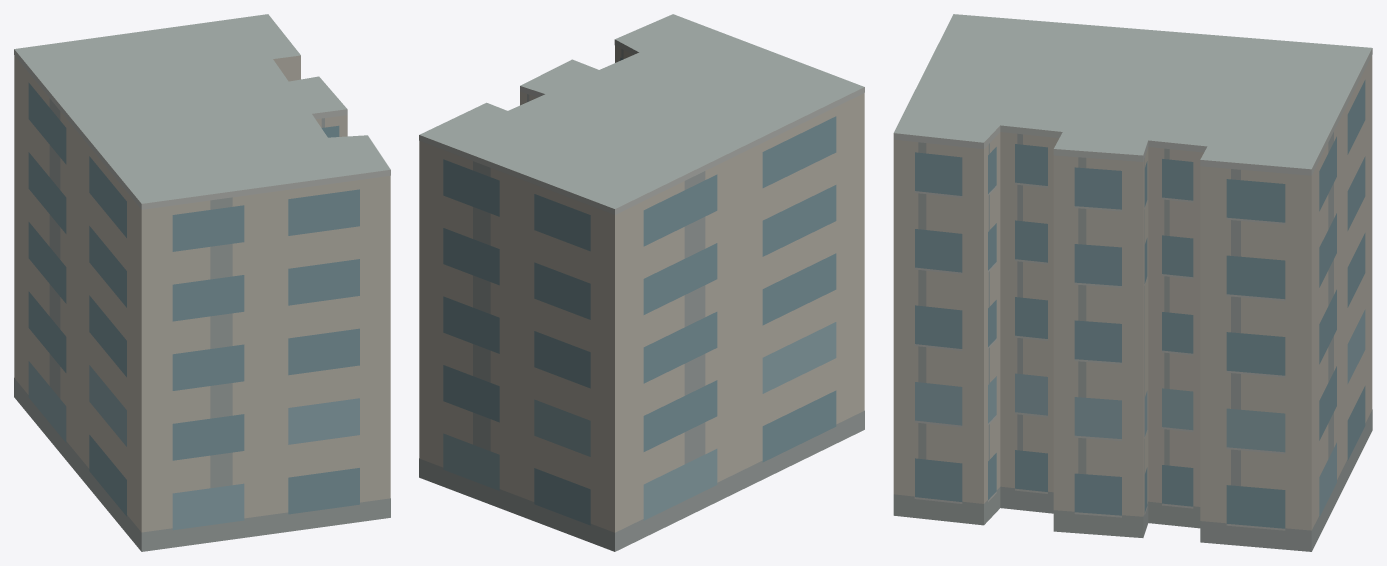
Rendered from survey-upis-32885331.glb.
3 renders of one model, left to right at view 1: azimuth 30°, elevation 25°; view 2: azimuth 150°, elevation 25°; view 3: azimuth 270°, elevation 25°, orthographic. The views are drawn at different scales.
Visible parts, largest first — view 1: survey-upis-32885331.tmp; view 2: survey-upis-32885331.tmp; view 3: survey-upis-32885331.tmp.
Boxes of the visible parts, x1,y1,x2,y2 form: survey-upis-32885331.tmp: (14, 14, 390, 551); survey-upis-32885331.tmp: (419, 14, 864, 551); survey-upis-32885331.tmp: (893, 14, 1372, 551).
Bounding box in the file's own units: 12.46 × 14.3 × 16.23.
